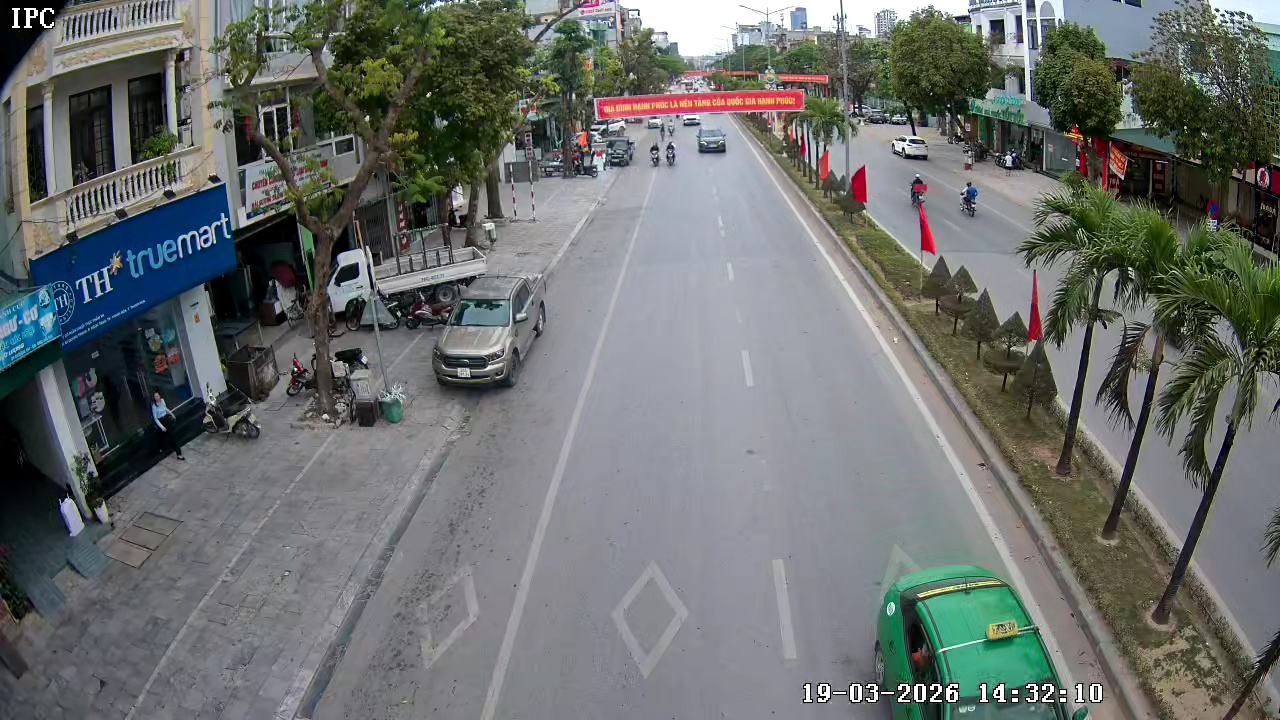car: (430, 273, 544, 387), (695, 125, 728, 154)
motorbike: (958, 180, 981, 219), (907, 173, 928, 209), (648, 136, 663, 168), (665, 139, 680, 166)
